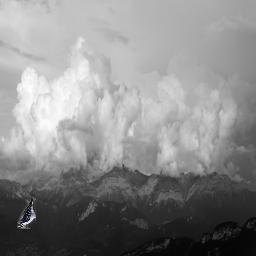Woodpecker: (17, 197, 36, 229)
